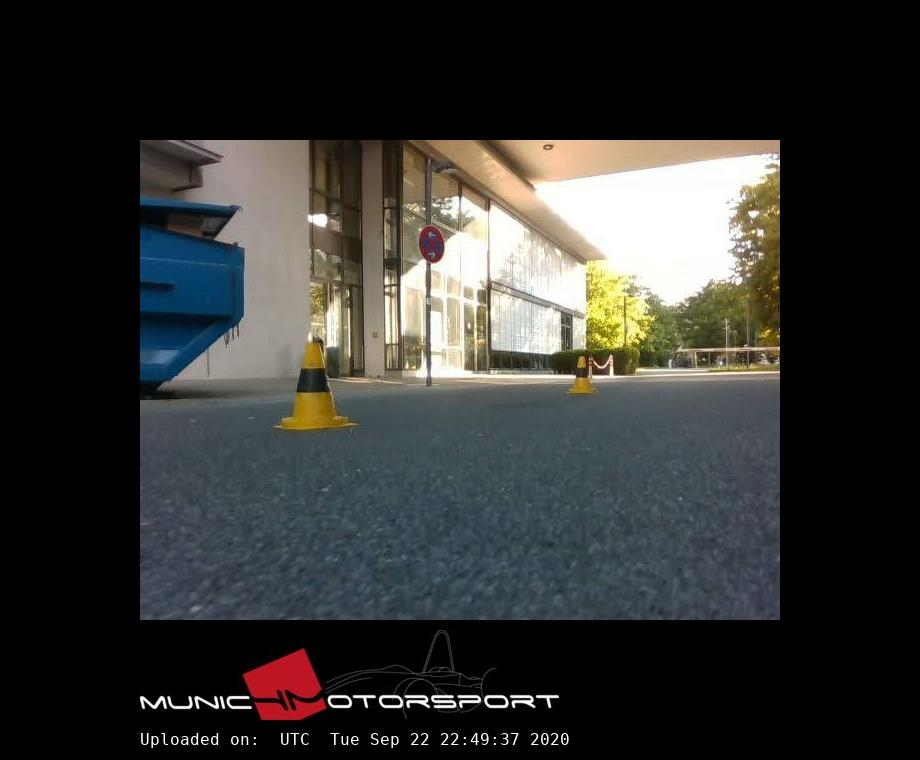yellow_cone: (274, 344, 357, 430), (566, 356, 597, 393)
